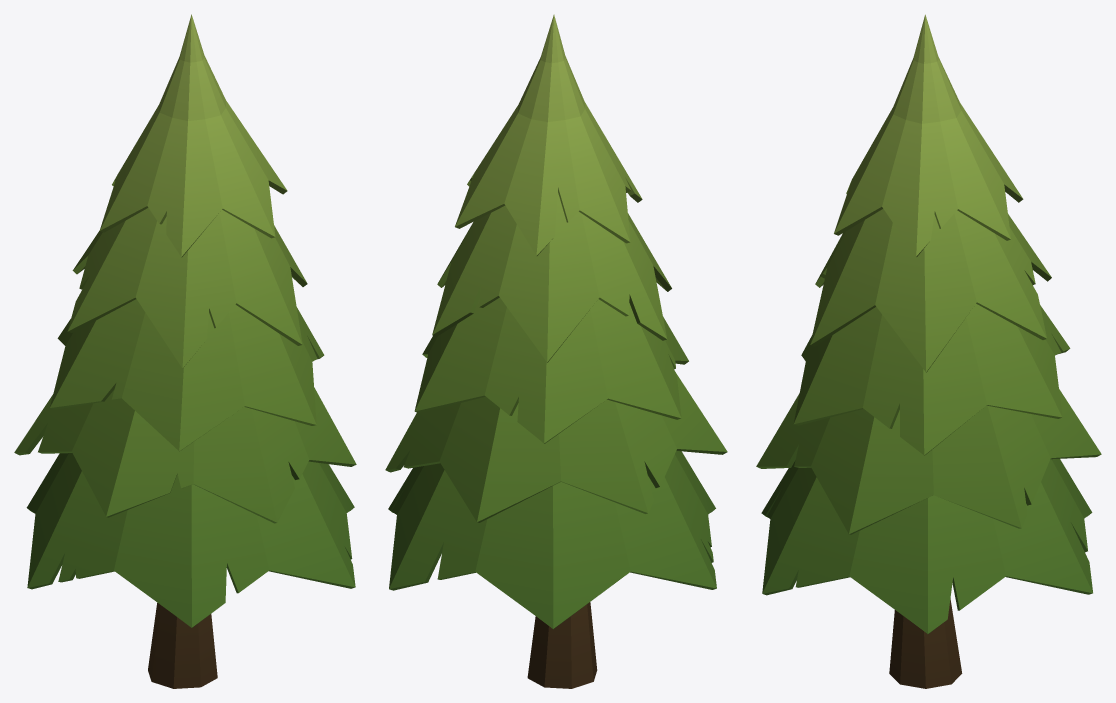
Rendered from Summer_Tree_02.glb.
The picture shows the model from 3 angles, left to right: view 1: azimuth 30°, elevation 25°; view 2: azimuth 150°, elevation 25°; view 3: azimuth 270°, elevation 25°; orthographic projection.
Visible parts, largest first — view 1: Summer_Tree_02_LOD0; view 2: Summer_Tree_02_LOD0; view 3: Summer_Tree_02_LOD0.
Boxes of the visible parts, x1,y1,x2,y2 form: Summer_Tree_02_LOD0: (14,14,356,688); Summer_Tree_02_LOD0: (385,14,727,688); Summer_Tree_02_LOD0: (756,14,1101,688).
Size of what is drawn, in the model's own units: 1.92 by 3.67 by 1.73.
Materials: 1 (1 with a texture image).
